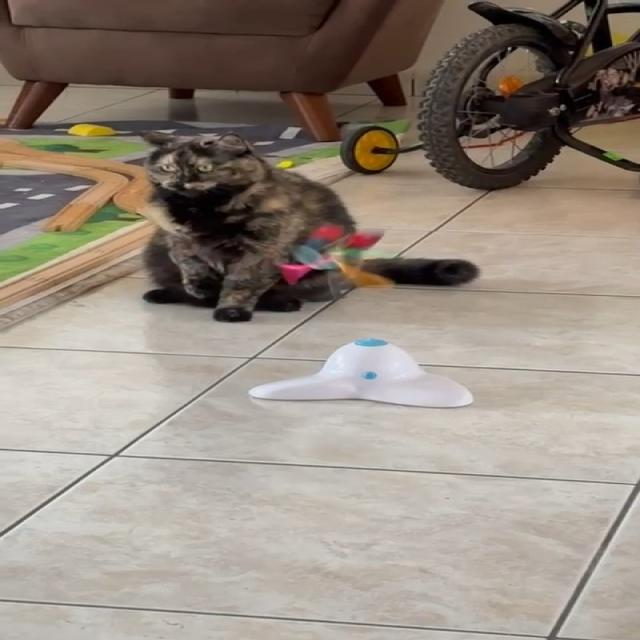authorized: (136, 130, 479, 322)
